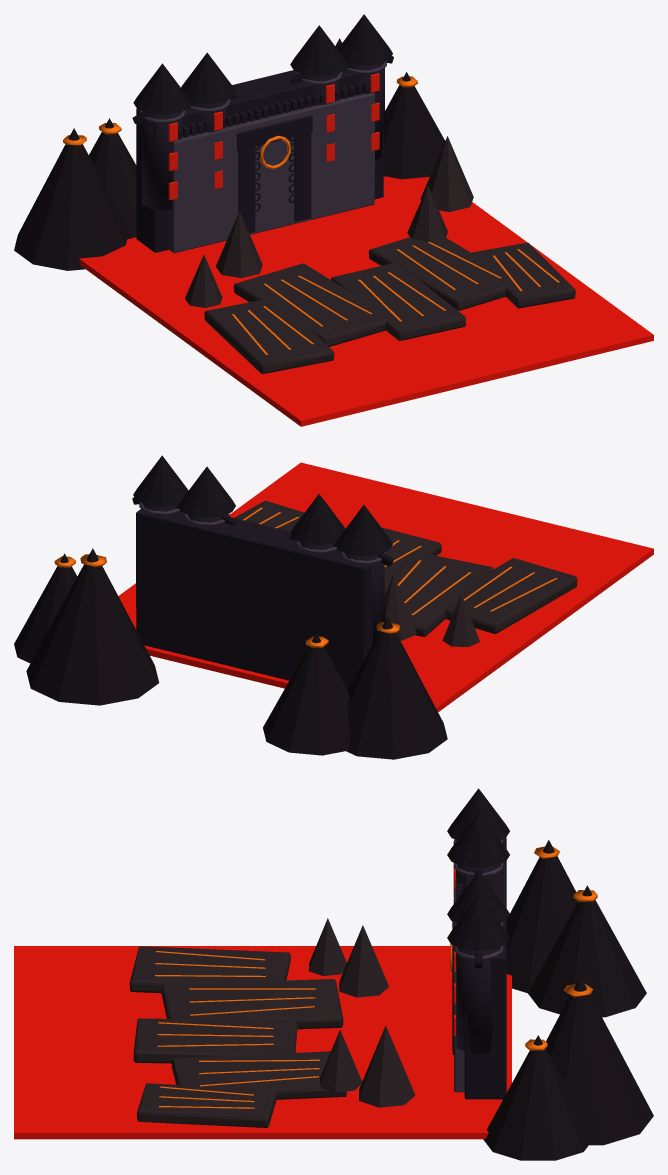
Rendered from lava_castle_environment_optimized.obj.
3 views of the same model, one above another, from view 1: azimuth 30°, elevation 25°; view 2: azimuth 150°, elevation 25°; view 3: azimuth 270°, elevation 25° (orthographic). The views are drawn at different scales.
Parts seen in each view (by area): view 1: Lava_Basin, Castle_Front_Facade, Horizon_Volcano_0, Arena_Island_1, Arena_Island_0, Arena_Island_3, Castle_Main_Keep, Arena_Island_2, Horizon_Volcano_3, Arena_Island_4, Horizon_Volcano_1, Castle_Tower_0 (+12 smaller); view 2: Castle_Main_Keep, Lava_Basin, Horizon_Volcano_2, Horizon_Volcano_0, Horizon_Volcano_1, Arena_Island_0, Arena_Island_1, Horizon_Volcano_3, Tower_Roof_2, Tower_Roof_0, Tower_Roof_3, Tower_Roof_1 (+5 smaller); view 3: Lava_Basin, Horizon_Volcano_2, Horizon_Volcano_1, Horizon_Volcano_3, Arena_Island_1, Horizon_Volcano_0, Arena_Island_2, Arena_Island_3, Arena_Island_0, Arena_Island_4, Castle_Main_Keep, Castle_Tower_3 (+9 smaller).
Boxes of the visible parts, box(x1,y1,x2,y2) form: Lava_Basin: box(79, 176, 653, 426); Castle_Front_Facade: box(169, 93, 374, 253); Horizon_Volcano_0: box(14, 128, 132, 270); Arena_Island_1: box(234, 263, 391, 346); Arena_Island_0: box(204, 300, 334, 373); Arena_Island_3: box(369, 237, 518, 310); Castle_Main_Keep: box(136, 70, 383, 252); Arena_Island_2: box(331, 263, 465, 340); Horizon_Volcano_3: box(383, 72, 444, 179); Arena_Island_4: box(471, 242, 575, 308); Horizon_Volcano_1: box(89, 118, 136, 237); Castle_Tower_0: box(142, 111, 182, 210); Castle_Main_Keep: box(136, 509, 372, 689); Lava_Basin: box(118, 462, 653, 712); Horizon_Volcano_2: box(26, 548, 159, 705); Horizon_Volcano_0: box(346, 617, 447, 759); Horizon_Volcano_1: box(263, 633, 349, 755); Arena_Island_0: box(444, 558, 577, 633); Arena_Island_1: box(384, 552, 493, 636); Horizon_Volcano_3: box(14, 553, 77, 663); Tower_Roof_2: box(178, 466, 235, 517); Tower_Roof_0: box(335, 505, 392, 556); Tower_Roof_3: box(133, 455, 188, 507); Tower_Roof_1: box(290, 494, 345, 545); Lava_Basin: box(14, 946, 511, 1139); Horizon_Volcano_2: box(546, 976, 653, 1145); Horizon_Volcano_1: box(528, 885, 646, 1017); Horizon_Volcano_3: box(483, 1035, 591, 1160); Arena_Island_1: box(161, 979, 343, 1029); Horizon_Volcano_0: box(506, 840, 578, 992); Arena_Island_2: box(133, 1018, 297, 1063); Arena_Island_3: box(171, 1051, 347, 1099); Arena_Island_0: box(129, 946, 290, 993); Arena_Island_4: box(137, 1083, 276, 1127); Castle_Main_Keep: box(464, 838, 506, 1099); Castle_Tower_3: box(456, 947, 500, 1054).
Bounding box in the file's own units: 301 × 132 × 365.
